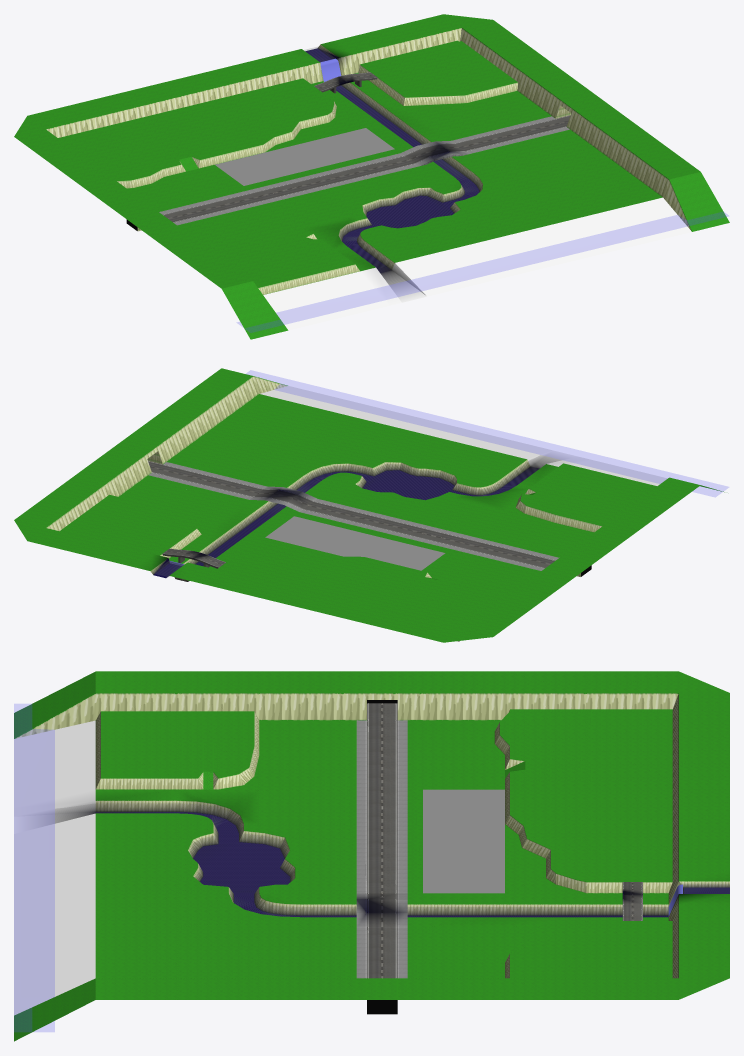
File: island-8x7.glb
3 views of the same model, one above another, from view 1: azimuth 30°, elevation 25°; view 2: azimuth 150°, elevation 25°; view 3: azimuth 270°, elevation 25° (orthographic). The views are drawn at different scales.
Visible parts, largest first — view 1: island-8x7-col, island-8x7_water-col; view 2: island-8x7-col, island-8x7_water-col; view 3: island-8x7-col, island-8x7_water-col.
Boxes of the visible parts, bbox=[...] form: island-8x7-col: bbox=[14, 14, 729, 339]; island-8x7_water-col: bbox=[237, 46, 728, 332]; island-8x7-col: bbox=[14, 368, 724, 642]; island-8x7_water-col: bbox=[153, 370, 728, 576]; island-8x7-col: bbox=[14, 671, 729, 1041]; island-8x7_water-col: bbox=[14, 704, 729, 1031].
Size of the model in its own units: 152 by 9 by 140.
Materials: 11 (6 with a texture image).
